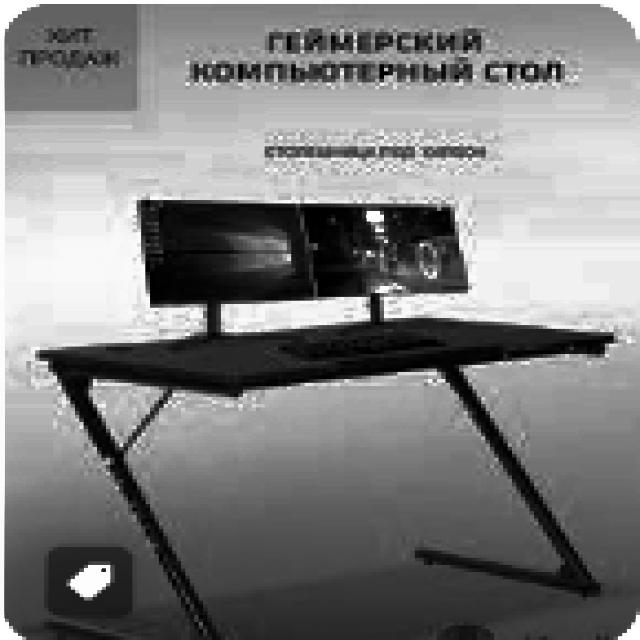table: (36, 311, 614, 636)
